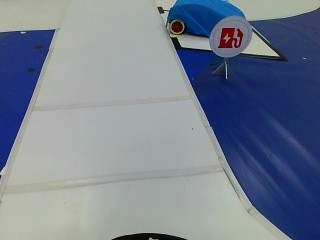battery: (214, 20, 249, 56)
car: (164, 1, 252, 36)
